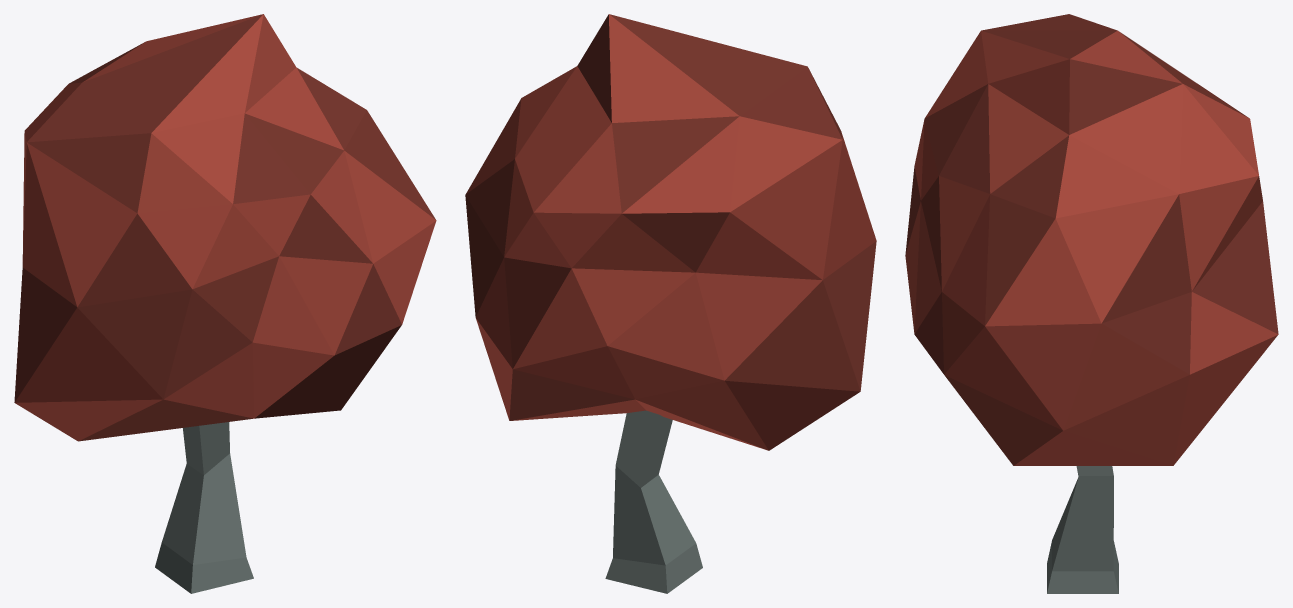
File: Tree_3_Red.fbx
3 views of the same model, side by side, from view 1: azimuth 30°, elevation 25°; view 2: azimuth 150°, elevation 25°; view 3: azimuth 270°, elevation 25° (orthographic).
Parts seen in each view (by area): view 1: Tree_3_Red_Part_2, Tree_3_Red_Part_3, Tree_3_Red_Part_1; view 2: Tree_3_Red_Part_2, Tree_3_Red_Part_3, Tree_3_Red_Part_1; view 3: Tree_3_Red_Part_2, Tree_3_Red_Part_3, Tree_3_Red_Part_1.
Boxes of the visible parts, <box> form: Tree_3_Red_Part_2: <box>14,14,436,441</box>; Tree_3_Red_Part_3: <box>14,14,435,441</box>; Tree_3_Red_Part_1: <box>155,422,253,593</box>; Tree_3_Red_Part_2: <box>465,14,876,450</box>; Tree_3_Red_Part_3: <box>465,14,876,420</box>; Tree_3_Red_Part_1: <box>605,410,702,593</box>; Tree_3_Red_Part_2: <box>905,30,1278,465</box>; Tree_3_Red_Part_3: <box>905,14,1278,465</box>; Tree_3_Red_Part_1: <box>1047,466,1118,593</box>.
Bounding box in the file's own units: 433 × 596 × 370.
